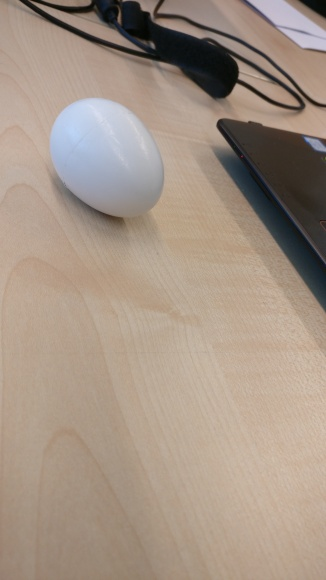egg: (50, 96, 165, 223)
